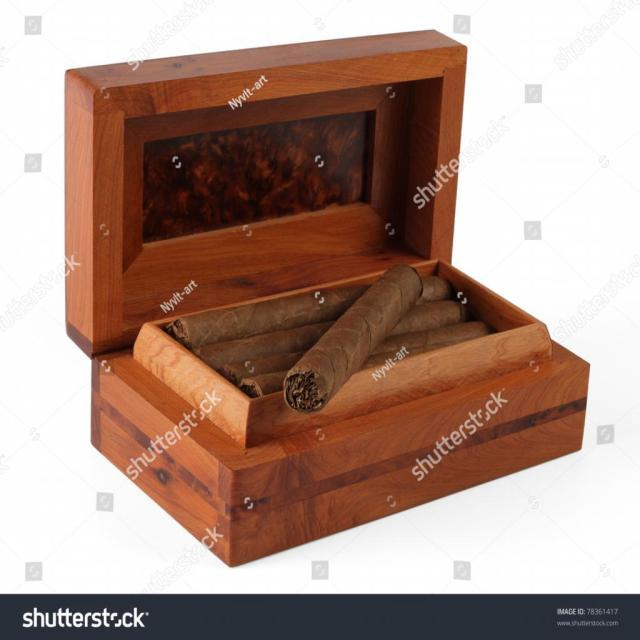smoking: (163, 247, 505, 442)
